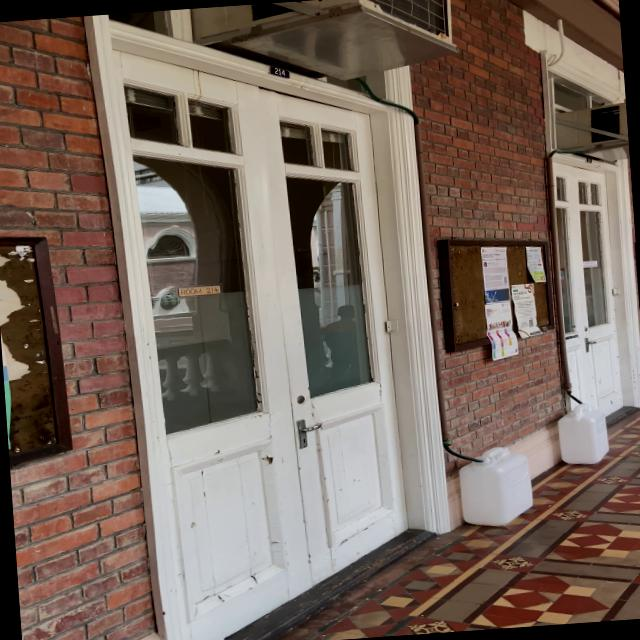room214: (268, 61, 291, 80)
room214Window: (168, 282, 226, 298)
